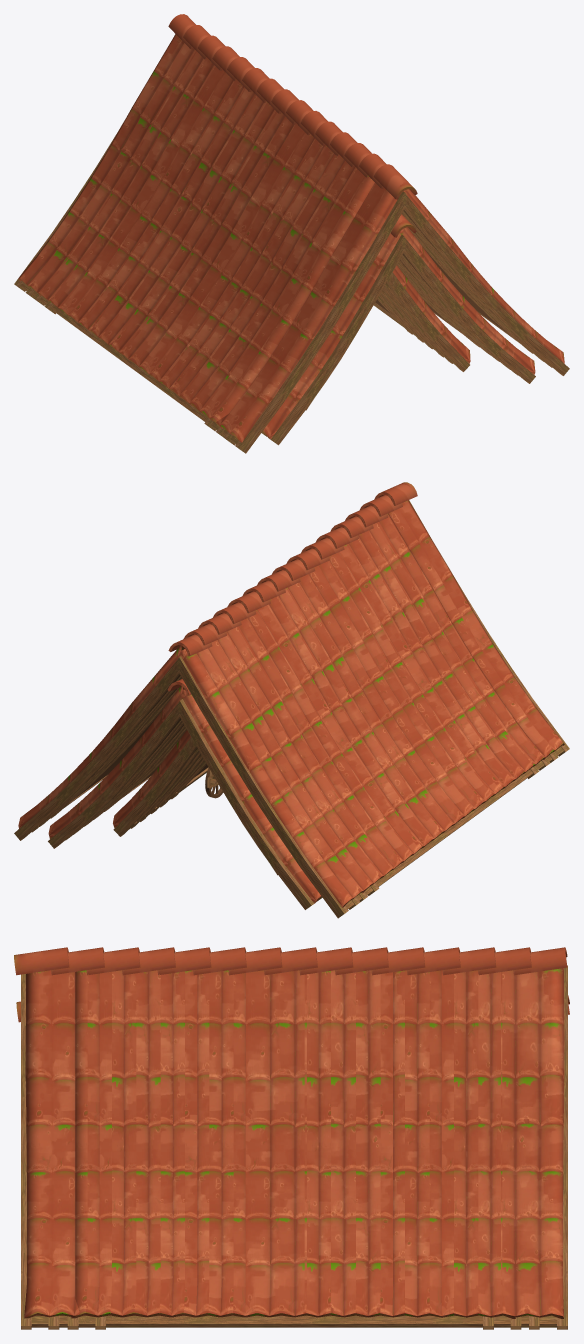
The model's file is Village.glb.
3 renders of one model, top to bottom at view 1: azimuth 30°, elevation 25°; view 2: azimuth 150°, elevation 25°; view 3: azimuth 270°, elevation 25°, orthographic. The views are drawn at different scales.
Parts seen in each view (by area): view 1: Roof_RoundTiles_8x10, Roof_RoundTiles_8x8, Roof_RoundTiles_6x10, Roof_RoundTiles_4x8, Roof_RoundTiles_6x8; view 2: Roof_RoundTiles_8x10, Roof_RoundTiles_8x8, Roof_RoundTiles_6x10, Roof_RoundTiles_4x8, Roof_RoundTiles_6x8; view 3: Roof_RoundTiles_8x10, Roof_RoundTiles_8x8.
Boxes of the visible parts, x1=… form: Roof_RoundTiles_8x10: x1=14, y1=14, x2=569, y2=453; Roof_RoundTiles_8x8: x1=33, y1=25, x2=543, y2=437; Roof_RoundTiles_6x10: x1=261, y1=214, x2=535, y2=445; Roof_RoundTiles_4x8: x1=306, y1=265, x2=470, y2=410; Roof_RoundTiles_6x8: x1=398, y1=257, x2=509, y2=369; Roof_RoundTiles_8x10: x1=14, y1=482, x2=569, y2=918; Roof_RoundTiles_8x8: x1=39, y1=495, x2=550, y2=901; Roof_RoundTiles_6x10: x1=48, y1=679, x2=322, y2=909; Roof_RoundTiles_4x8: x1=113, y1=730, x2=277, y2=875; Roof_RoundTiles_6x8: x1=73, y1=722, x2=185, y2=834; Roof_RoundTiles_8x10: x1=14, y1=947, x2=567, y2=1329; Roof_RoundTiles_8x8: x1=51, y1=947, x2=531, y2=1329.
Bounding box in the file's own units: 9.95 × 6.78 × 11.91.
Materials: 8 (7 with a texture image).
